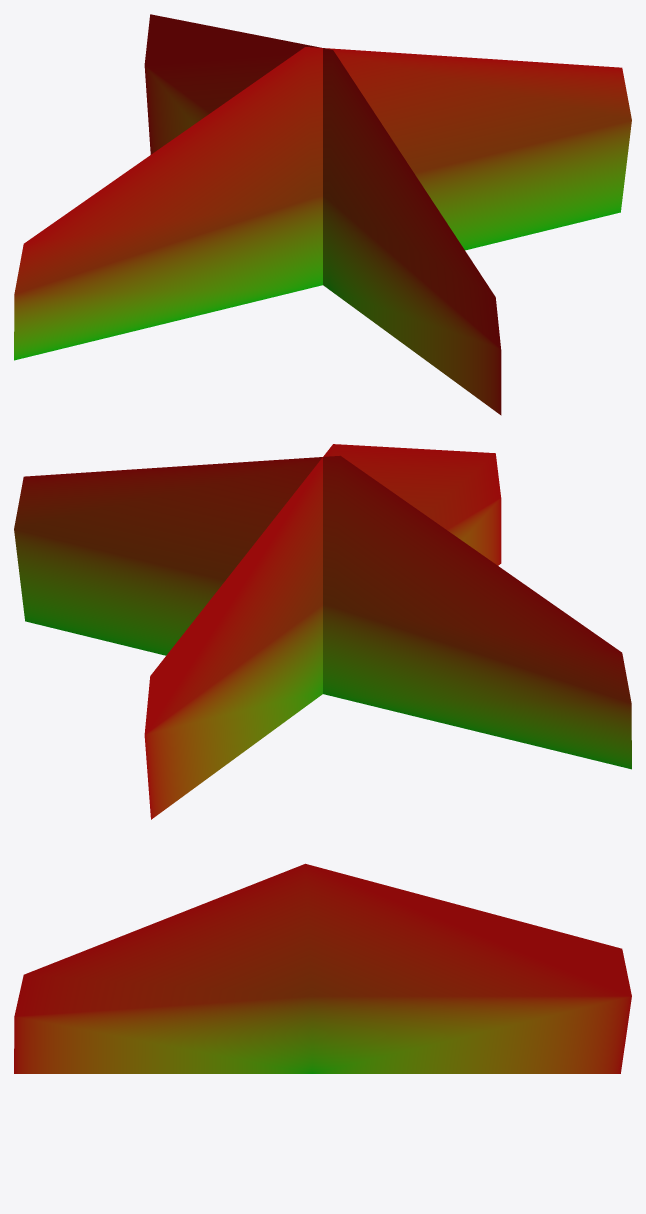
The model's file is Kikuyu Grass_LOD6_Var4_wiljearqx.fbx.
3 renders of one model, top to bottom at view 1: azimuth 30°, elevation 25°; view 2: azimuth 150°, elevation 25°; view 3: azimuth 270°, elevation 25°, orthographic. The views are drawn at different scales.
Parts seen in each view (by area): view 1: _x8tq_Var4_LOD6; view 2: _x8tq_Var4_LOD6; view 3: _x8tq_Var4_LOD6.
Part boxes in pixels (box(x1,y1,x2,y2)): _x8tq_Var4_LOD6: box(14, 14, 631, 415); _x8tq_Var4_LOD6: box(14, 444, 631, 819); _x8tq_Var4_LOD6: box(14, 863, 631, 1073).
Size of the model in its own units: 117 by 43.82 by 117.
